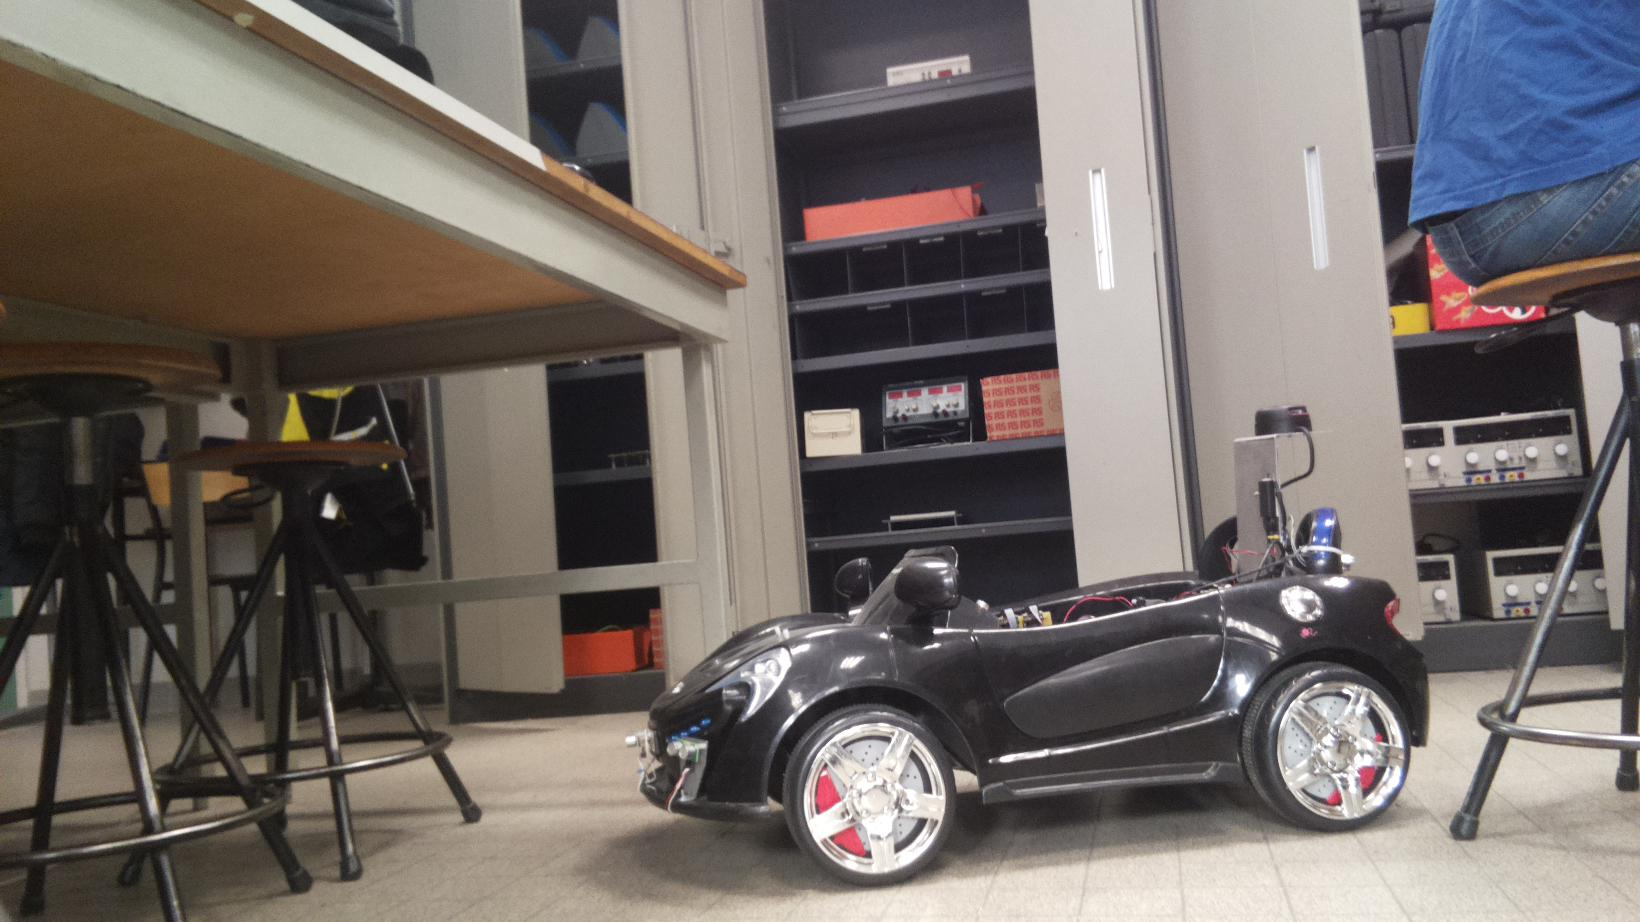big: (622, 399, 1434, 881)
